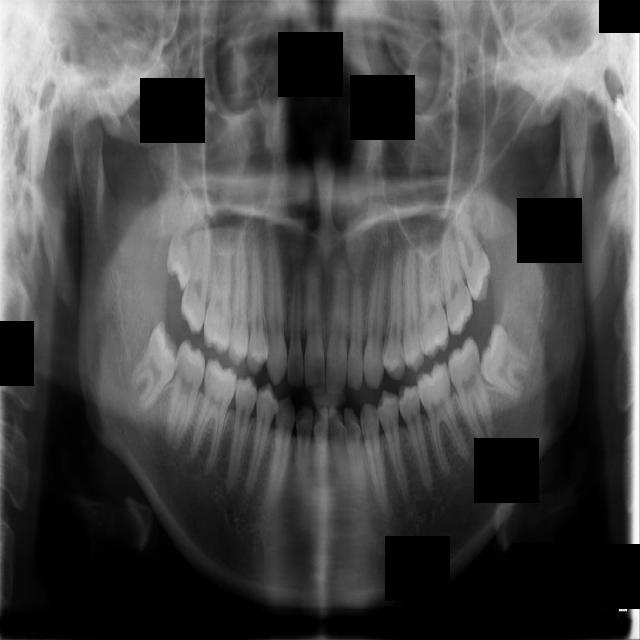3M ESPE Implant: (166, 191, 202, 291)
73: (610, 576, 618, 589)
BioHorizons Implant: (433, 224, 477, 339)
BioLife Implant: (441, 196, 501, 306)
Biomet 3i Implant: (470, 323, 545, 403)
Blue Sky Bio Implant: (441, 334, 497, 452)
Caries: (176, 211, 223, 335)
Implant: (163, 339, 209, 454)
Keystone Dental Implant: (120, 319, 194, 416)
